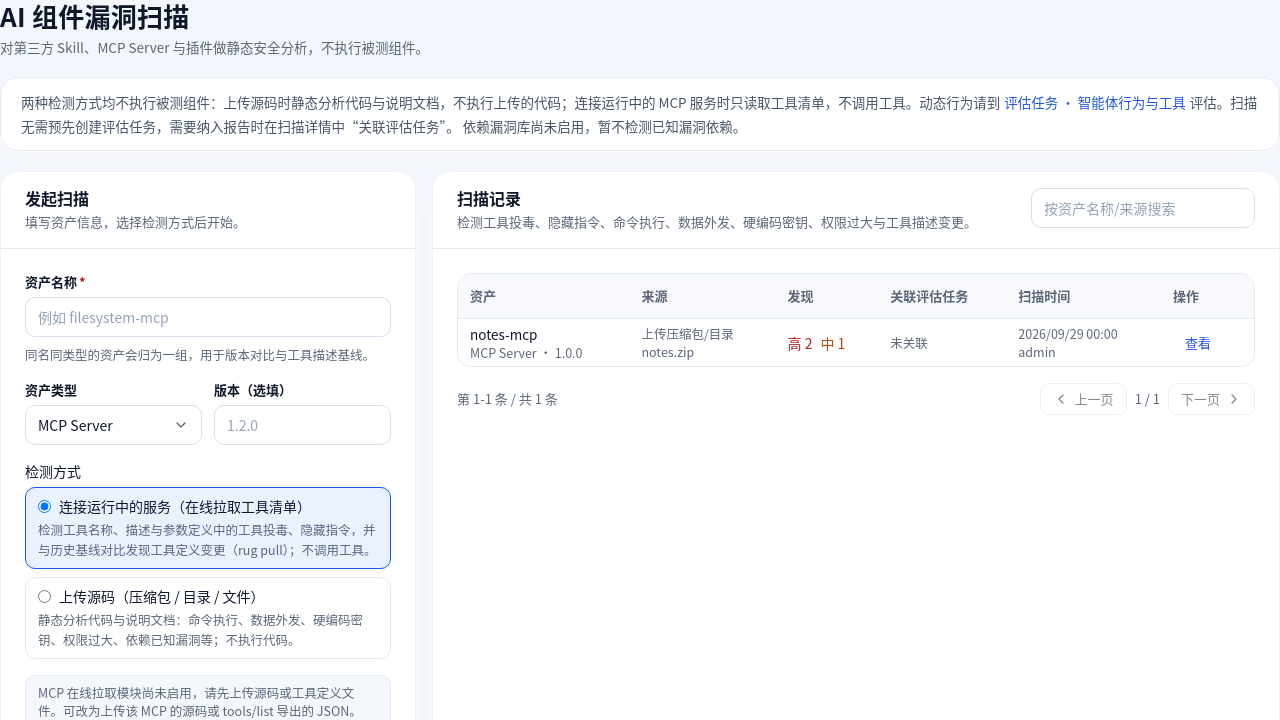
Test case: AiAssetScanPage › 详情：列出跳过的文件及原因（失败的扫描也展示）
Step 1. Click the button "查看" → (1198,343), box [1173,327,1223,359]
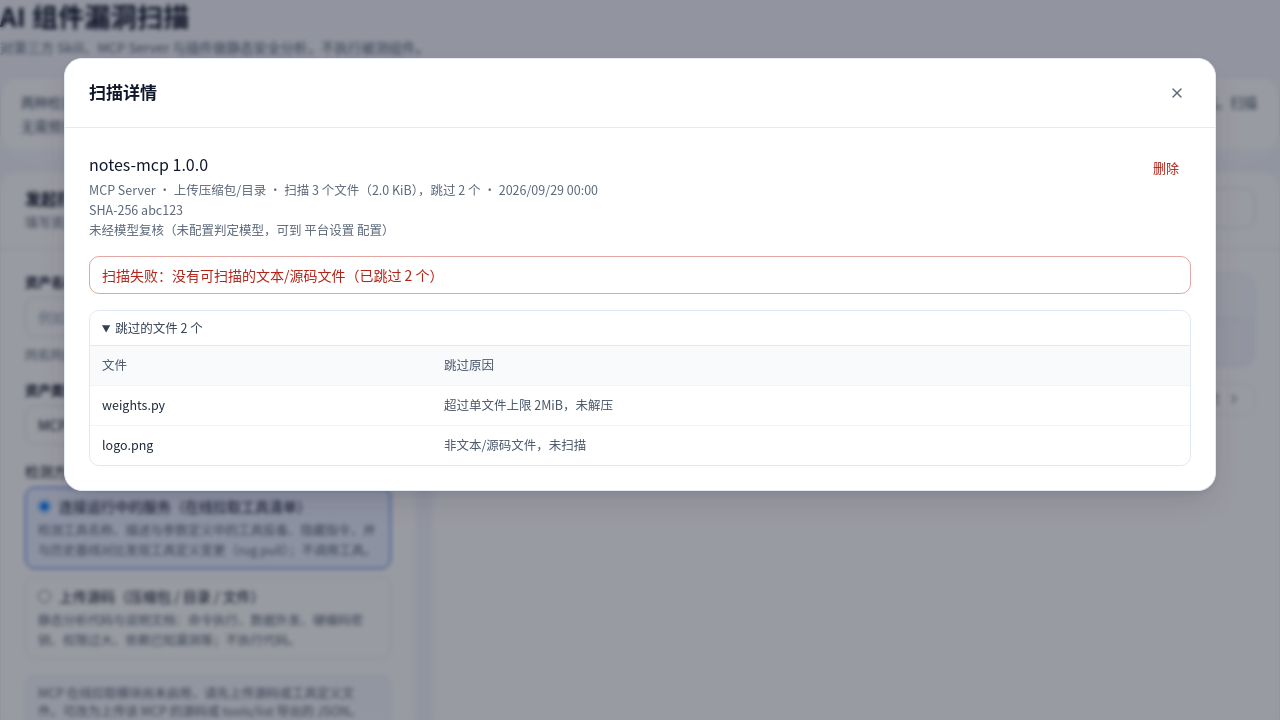
Now the text "weights.py" is shown, box [90,385,432,425]
Now the text "超过单文件上限 2MiB，未解压" is shown, box [432,385,1190,425]
Now the text "非文本/源码文件，未扫描" is shown, box [432,425,1190,465]
